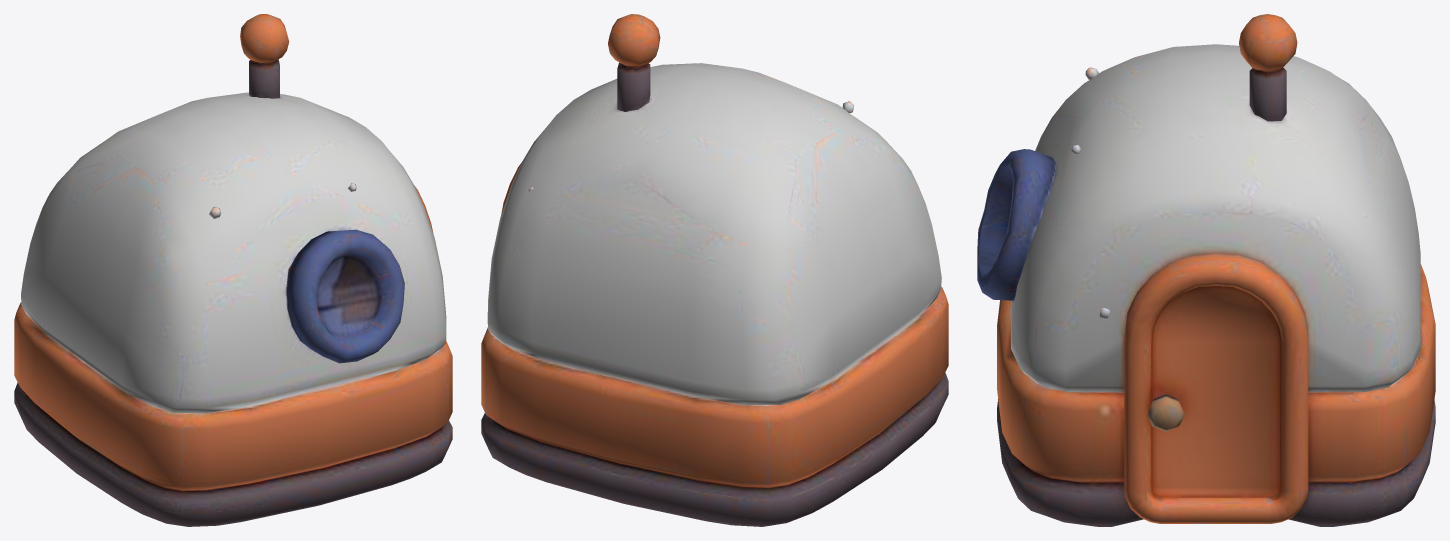
The model's file is hut.glb.
3 renders of one model, left to right at view 1: azimuth 30°, elevation 25°; view 2: azimuth 150°, elevation 25°; view 3: azimuth 270°, elevation 25°, orthographic. The views are drawn at different scales.
Parts seen in each view (by area): view 1: tripo_node_055c0f39-fbb9-4920-b0d1-899c8dd58482; view 2: tripo_node_055c0f39-fbb9-4920-b0d1-899c8dd58482; view 3: tripo_node_055c0f39-fbb9-4920-b0d1-899c8dd58482.
Part boxes in pixels (left/top/right/bottom): tripo_node_055c0f39-fbb9-4920-b0d1-899c8dd58482: left=14, top=14, right=452, bottom=526; tripo_node_055c0f39-fbb9-4920-b0d1-899c8dd58482: left=481, top=14, right=948, bottom=526; tripo_node_055c0f39-fbb9-4920-b0d1-899c8dd58482: left=977, top=14, right=1435, bottom=526.
Bounding box in the file's own units: 0.9004 × 0.998 × 0.9004.
1 material, 1 textured.
